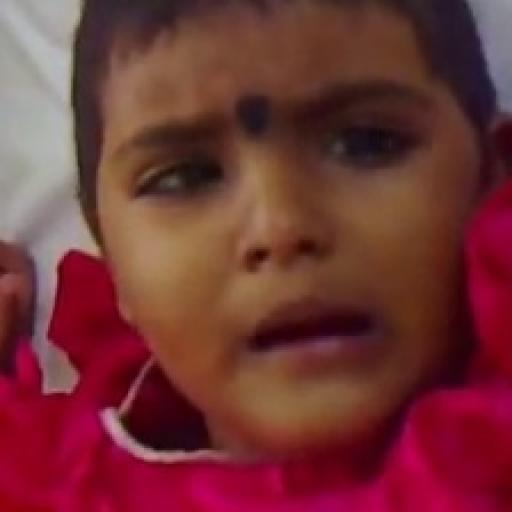Autism: (73, 14, 512, 471)
